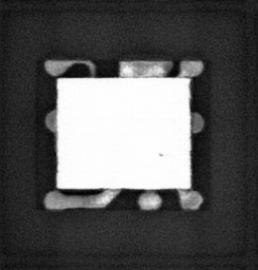DIE_INK: (157, 150, 165, 159)
